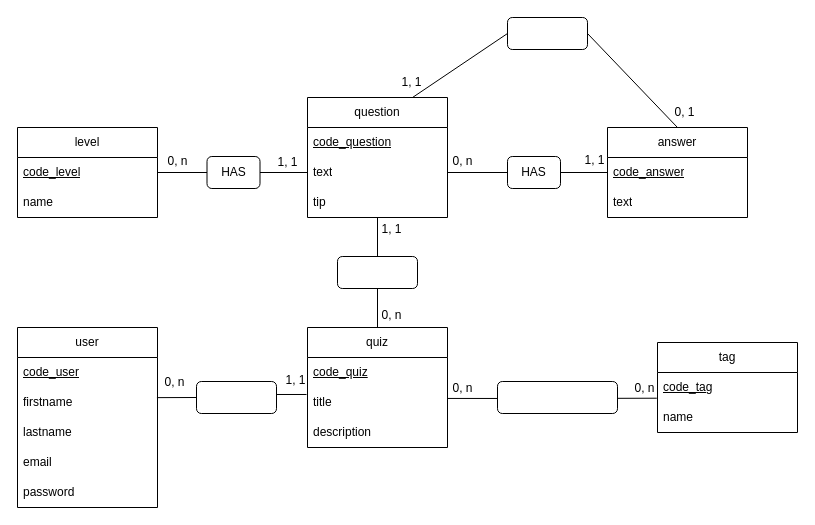
Image size: 815x525. Some labels were removed from this diagram. Each missing label, with the box of its shape:
BELONGS TO: (496, 380, 618, 414)
COMPOSE: (336, 256, 418, 288)
CREATE: (196, 380, 276, 414)
VALIDATE: (506, 16, 588, 50)
